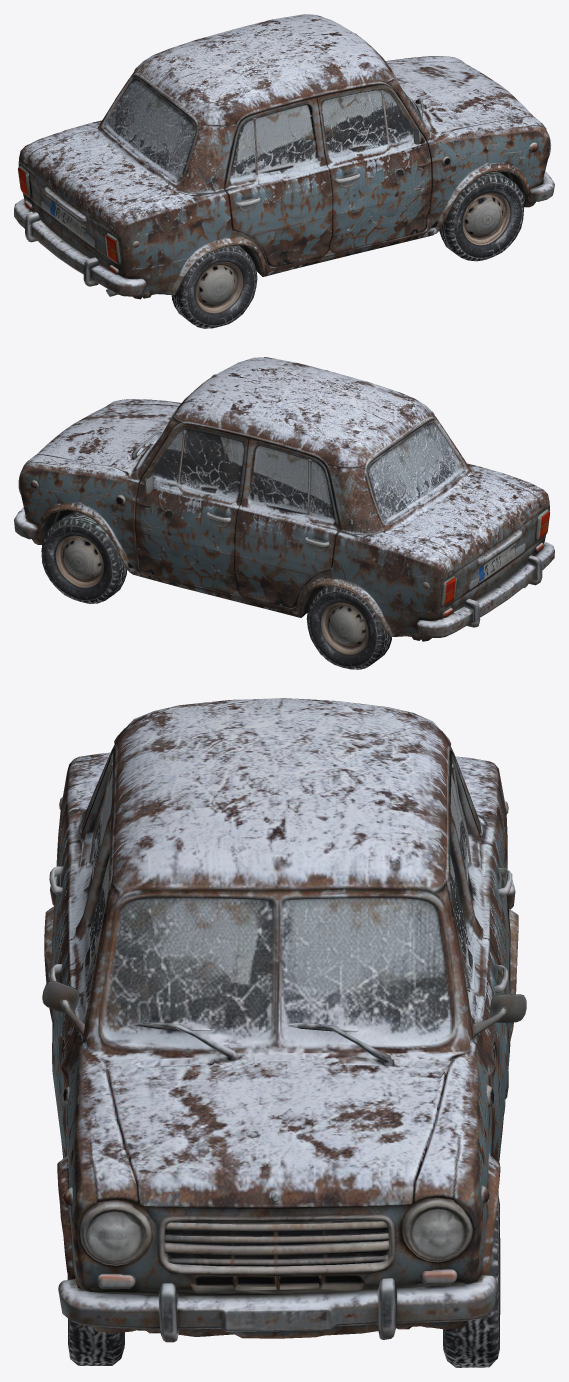
Rendered from jt_car.glb.
The picture shows the model from 3 angles, top to bottom: view 1: azimuth 30°, elevation 25°; view 2: azimuth 150°, elevation 25°; view 3: azimuth 270°, elevation 25°; orthographic projection. The views are drawn at different scales.
Parts seen in each view (by area): view 1: tripo_9b8c1760_1bc9_4014_9327_4d12b3d81f3f; view 2: tripo_9b8c1760_1bc9_4014_9327_4d12b3d81f3f; view 3: tripo_9b8c1760_1bc9_4014_9327_4d12b3d81f3f.
Boxes of the visible parts, x1,y1,x2,y2 form: tripo_9b8c1760_1bc9_4014_9327_4d12b3d81f3f: (14, 14, 554, 328); tripo_9b8c1760_1bc9_4014_9327_4d12b3d81f3f: (14, 357, 554, 669); tripo_9b8c1760_1bc9_4014_9327_4d12b3d81f3f: (42, 698, 526, 1367).
Bounding box in the file's own units: 0.9995 × 0.4497 × 0.4575.
1 material, 1 textured.
